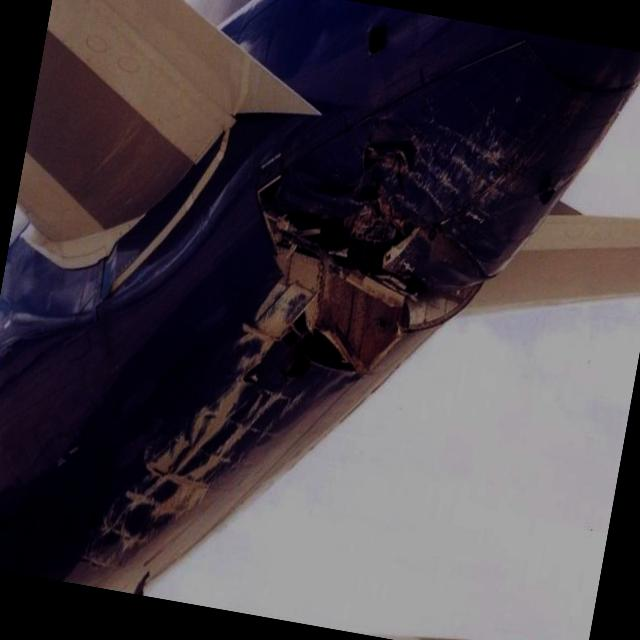dent: (281, 94, 356, 162), (289, 167, 358, 200), (469, 237, 503, 258)
